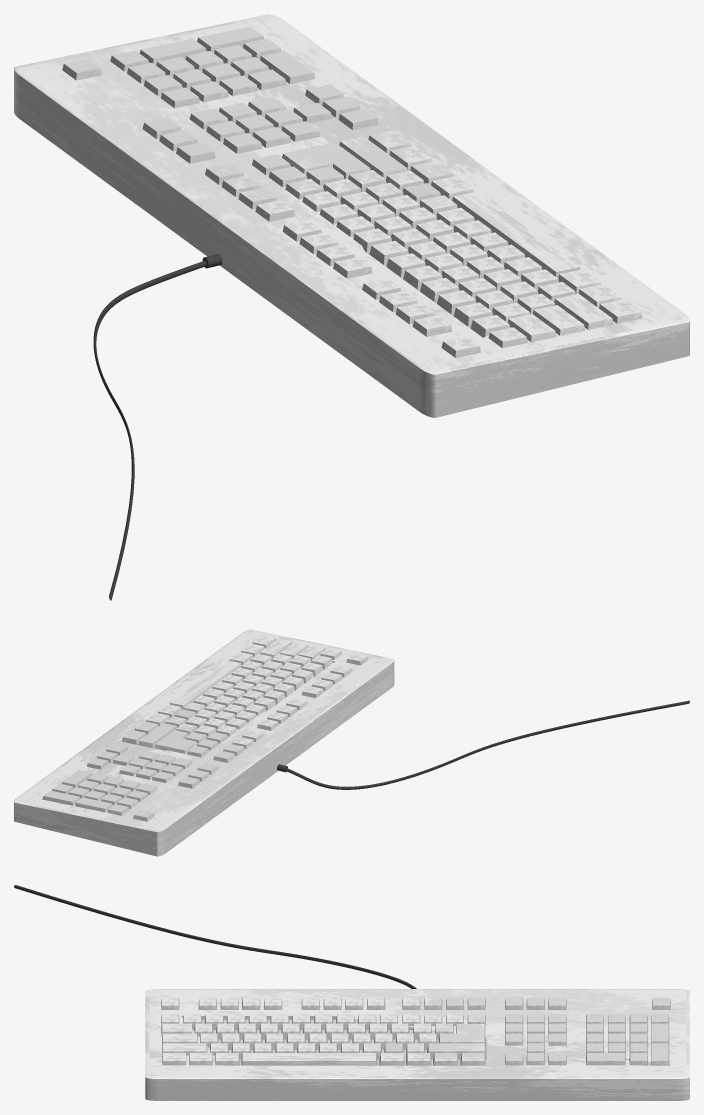
The model's file is Keyboard_temp.fbx.
3 views of the same model, one above another, from view 1: azimuth 30°, elevation 25°; view 2: azimuth 150°, elevation 25°; view 3: azimuth 270°, elevation 25° (orthographic). The views are drawn at different scales.
Parts seen in each view (by area): view 1: keyboard base, cable, key.108, key.097, key.061, key.055, key.062; view 2: keyboard base, cable, key.108, key.097; view 3: keyboard base, cable, key.108, key.097, key.061, key.062, key.055.
Boxes of the visible parts, <box> form: keyboard base: <box>14,14,689,417</box>; cable: <box>93,260,206,600</box>; key.108: <box>282,143,369,179</box>; key.097: <box>339,136,407,178</box>; key.061: <box>260,51,314,83</box>; key.055: <box>139,38,206,64</box>; key.062: <box>197,26,263,51</box>; keyboard base: <box>14,629,394,856</box>; cable: <box>285,700,689,789</box>; key.108: <box>155,730,197,753</box>; key.097: <box>138,723,177,748</box>; keyboard base: <box>145,989,689,1100</box>; cable: <box>14,885,416,988</box>; key.108: <box>438,1024,486,1048</box>; key.097: <box>427,1043,485,1058</box>; key.061: <box>586,1053,625,1065</box>; key.062: <box>651,1043,669,1065</box>; key.055: <box>651,1023,669,1043</box>.
Bounding box in the file's own units: 41.33 × 3.49 × 54.61.
2 materials, 2 textured.
